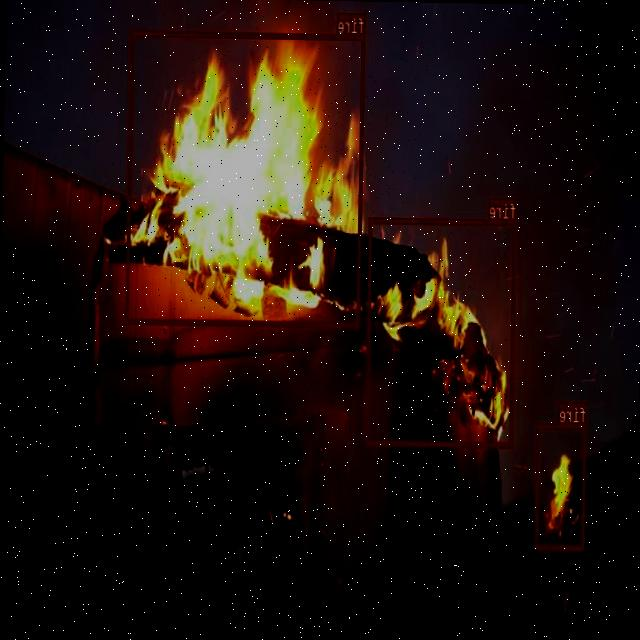fire: (126, 28, 365, 326), (366, 216, 518, 447), (534, 422, 586, 548)
